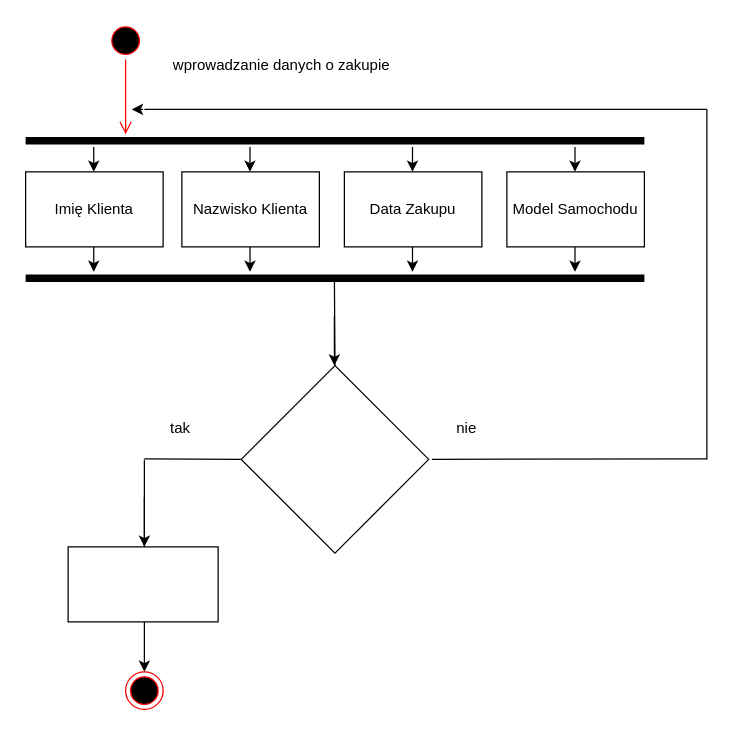
Some shapes in this 730 by 731 pixel diagram are drawn without their labels. Each missing label, with the centre of its shape:
"Dodanie zakupu do listy" belongs at pixel 142 584.
"Jeśli pola nie są puste" belongs at pixel 334 458.
